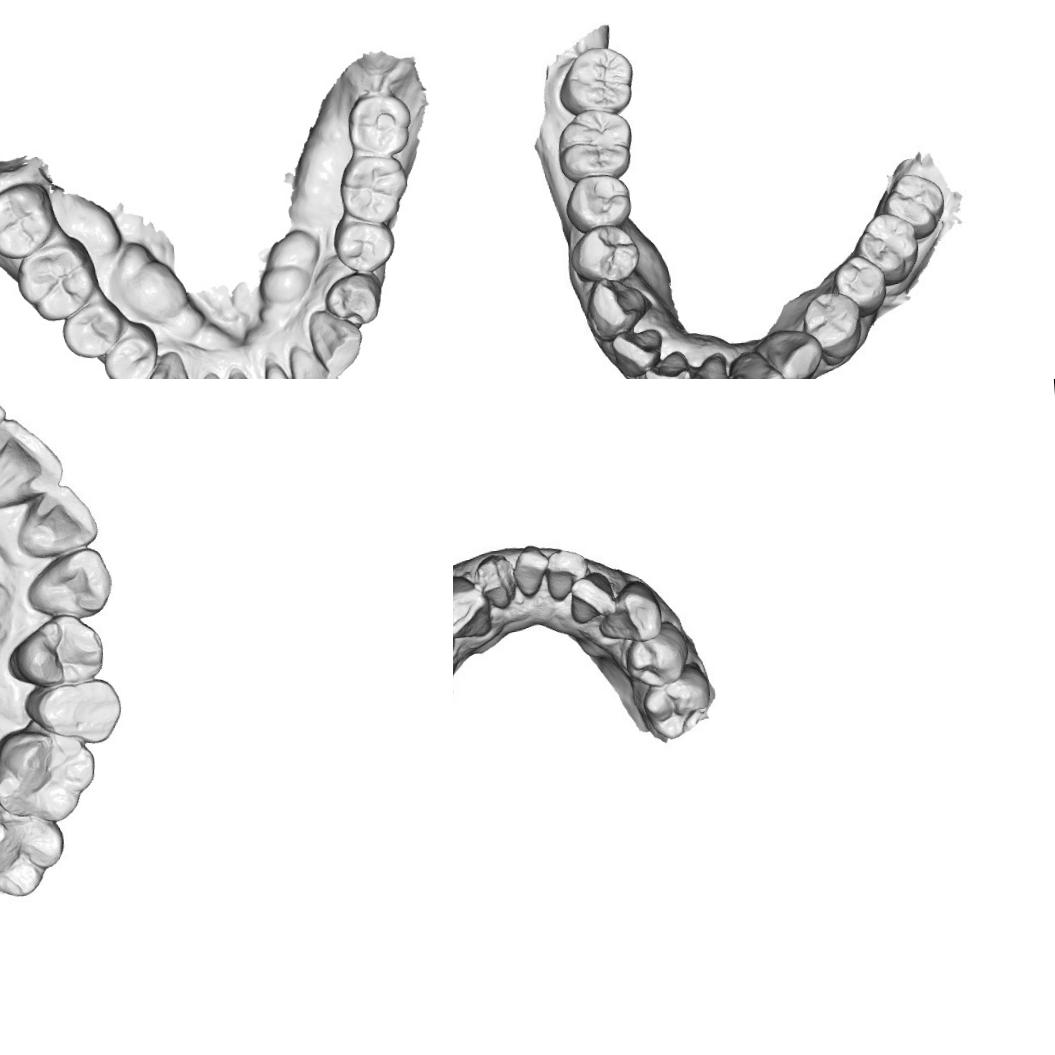canine: (20, 545, 115, 623), (594, 576, 668, 644), (305, 304, 367, 376), (584, 274, 646, 336), (766, 327, 822, 379), (453, 570, 492, 641), (139, 348, 195, 379)
crown: (19, 673, 124, 746)
incisor: (10, 480, 97, 563), (0, 412, 69, 510), (608, 324, 664, 379), (546, 546, 589, 610), (474, 552, 518, 611), (510, 543, 554, 598), (568, 571, 614, 622), (287, 340, 340, 379), (732, 344, 780, 379), (687, 345, 736, 379), (641, 349, 694, 379), (262, 356, 308, 379), (223, 363, 271, 379)
molar: (0, 719, 101, 828), (12, 235, 100, 324), (0, 794, 69, 901), (640, 660, 719, 742), (337, 150, 412, 229), (557, 106, 635, 176), (560, 44, 634, 116), (0, 179, 60, 261), (342, 90, 414, 158), (858, 210, 926, 280), (883, 170, 944, 232)
premolar: (3, 608, 103, 691), (620, 618, 692, 690), (566, 222, 640, 285), (798, 290, 861, 362), (562, 170, 633, 233), (59, 297, 126, 360), (332, 214, 396, 276), (322, 269, 385, 328), (98, 320, 160, 379), (832, 253, 888, 314)
